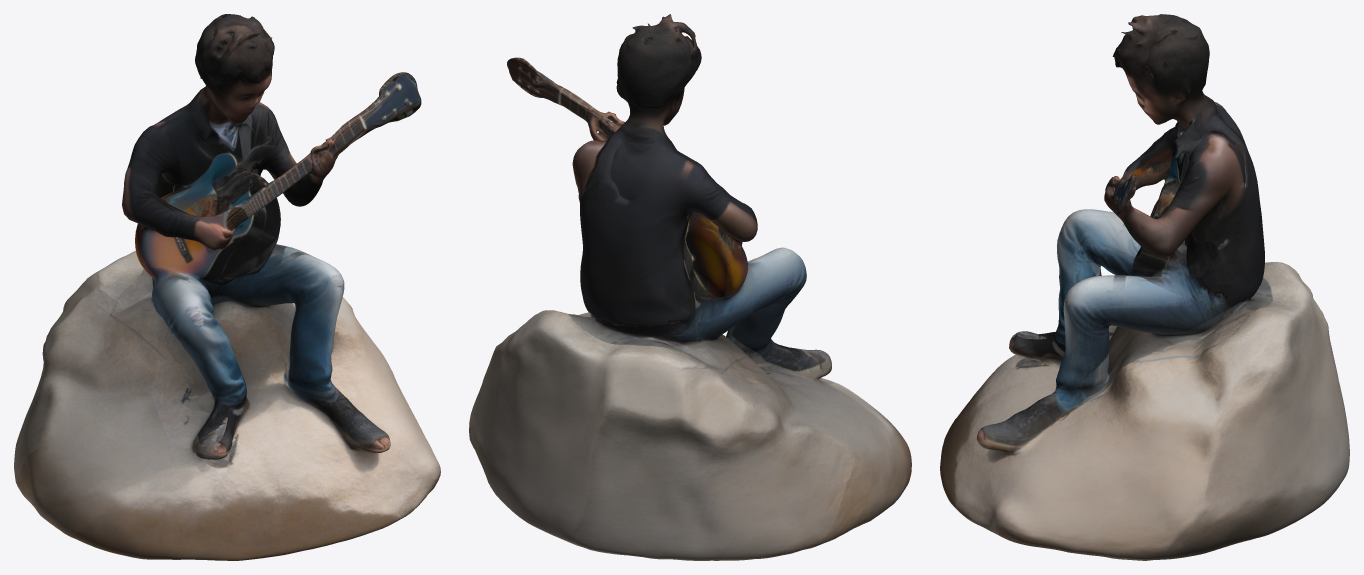
Rendered from guitar.glb.
The picture shows the model from 3 angles, left to right: view 1: azimuth 30°, elevation 25°; view 2: azimuth 150°, elevation 25°; view 3: azimuth 270°, elevation 25°; orthographic projection. The views are drawn at different scales.
Bounding box in the file's own units: 1.74 × 1.97 × 1.58.
1 material, 1 textured.
